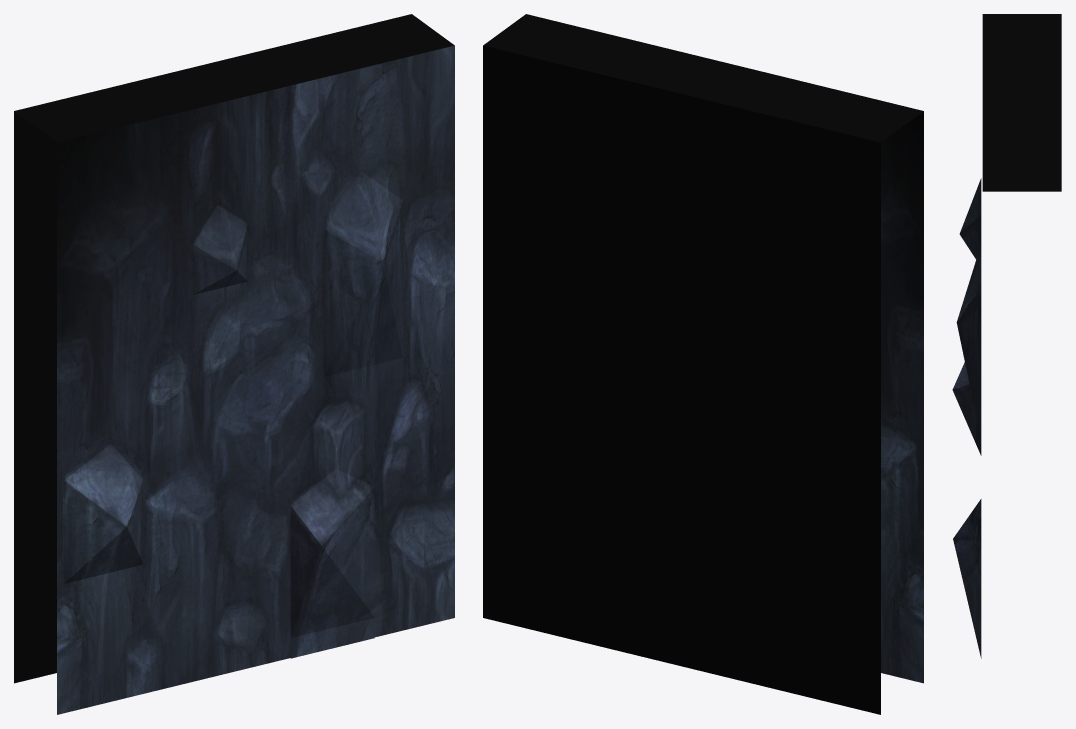
File: mine_fade_transition_04.fbx
3 views of the same model, side by side, from view 1: azimuth 30°, elevation 25°; view 2: azimuth 150°, elevation 25°; view 3: azimuth 270°, elevation 25° (orthographic). The views are drawn at different scales.
Visible parts, largest first — view 1: obj2.012; view 2: obj2.012; view 3: obj2.012.
Part boxes in pixels (x1=…): obj2.012: x1=14, y1=14, x2=454, y2=714; obj2.012: x1=483, y1=14, x2=923, y2=714; obj2.012: x1=952, y1=14, x2=1061, y2=658.
Bounding box in the file's own units: 4 × 5.5 × 1.04.
